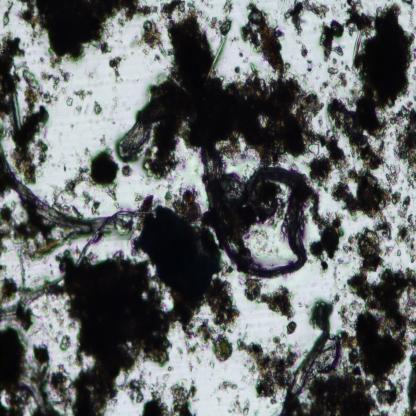Background material: (152, 0, 322, 172), (71, 256, 172, 414), (322, 0, 412, 164), (332, 270, 416, 411), (16, 0, 157, 63), (0, 32, 50, 183), (233, 332, 297, 396), (332, 164, 402, 218), (240, 2, 290, 77), (310, 366, 378, 416), (308, 186, 346, 272), (30, 341, 71, 414), (0, 322, 31, 415), (22, 65, 52, 155), (387, 100, 416, 192), (200, 267, 242, 325), (142, 375, 200, 415), (243, 278, 297, 318), (308, 130, 348, 182), (193, 319, 233, 365), (286, 0, 331, 40), (52, 160, 92, 202), (354, 226, 386, 274), (92, 148, 120, 202), (342, 1, 374, 40), (136, 18, 164, 61), (392, 215, 416, 263), (319, 18, 346, 58), (404, 340, 416, 414), (209, 1, 234, 36), (120, 374, 147, 405), (81, 185, 101, 215), (325, 66, 350, 89), (40, 70, 70, 89), (280, 395, 308, 415), (0, 276, 17, 305), (108, 55, 124, 84), (300, 41, 313, 73), (228, 396, 250, 414), (214, 378, 238, 394), (2, 1, 14, 28), (58, 331, 73, 350), (400, 192, 409, 219), (74, 88, 94, 99), (286, 320, 298, 336), (92, 100, 104, 114), (121, 163, 132, 176), (66, 96, 74, 107), (75, 104, 82, 116)
Cellulose filter fibre: (0, 209, 157, 320), (203, 164, 307, 275), (0, 154, 102, 234), (288, 317, 335, 398), (116, 122, 153, 161)
Fragment: (139, 188, 225, 330)
